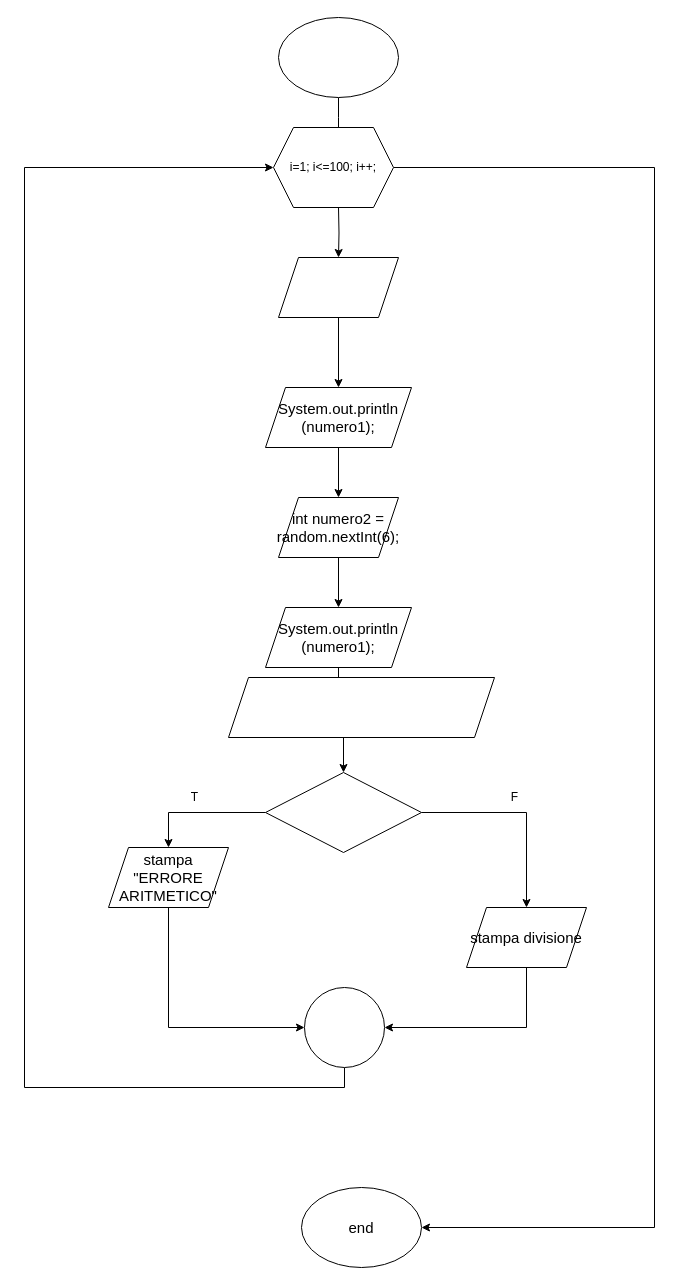
Some shapes in this 680 by 1285 pixel diagram are drawn without their labels. Here are the shapes that lost their labels. From the top down, the box of each, then its label:
(278, 16, 398, 98): start
(278, 256, 398, 318): int numero1 = random.nextInt(6);
(228, 676, 494, 738): double divisione = numero1 / numero2
(264, 772, 422, 852): ARITHMETIC EXCEPTION
